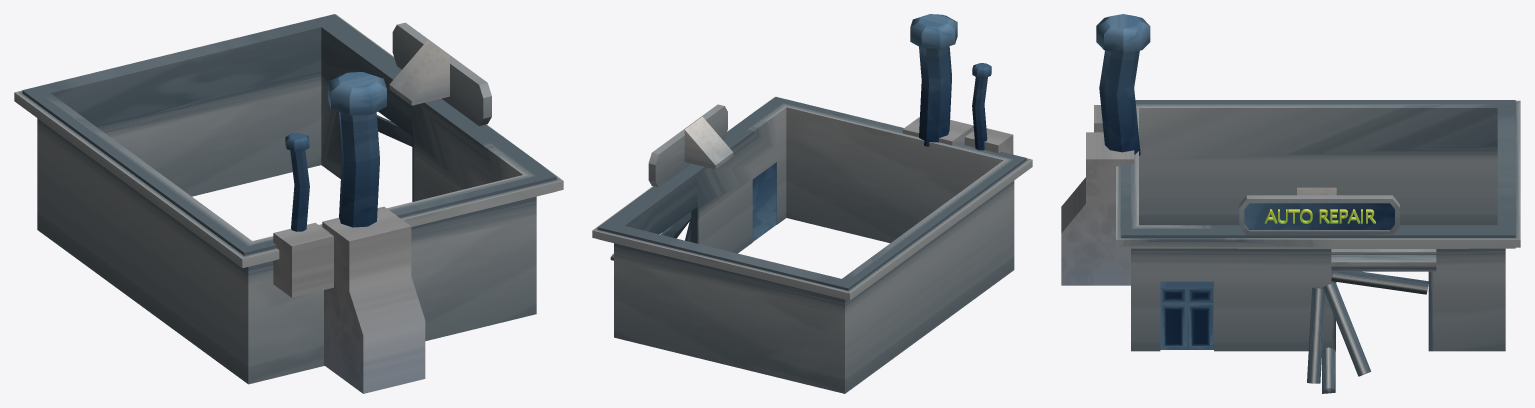
The model's file is Garage_Bottom.fbx.
3 views of the same model, side by side, from view 1: azimuth 30°, elevation 25°; view 2: azimuth 150°, elevation 25°; view 3: azimuth 270°, elevation 25° (orthographic). The views are drawn at different scales.
Parts seen in each view (by area): view 1: pCube14; view 2: pCube14; view 3: pCube14.
Boxes of the visible parts, box(x1,y1,x2,y2) form: pCube14: box(14, 14, 563, 393); pCube14: box(592, 14, 1032, 393); pCube14: box(1061, 14, 1520, 393).
Size of the model in its own units: 2294 by 1658 by 2553.
